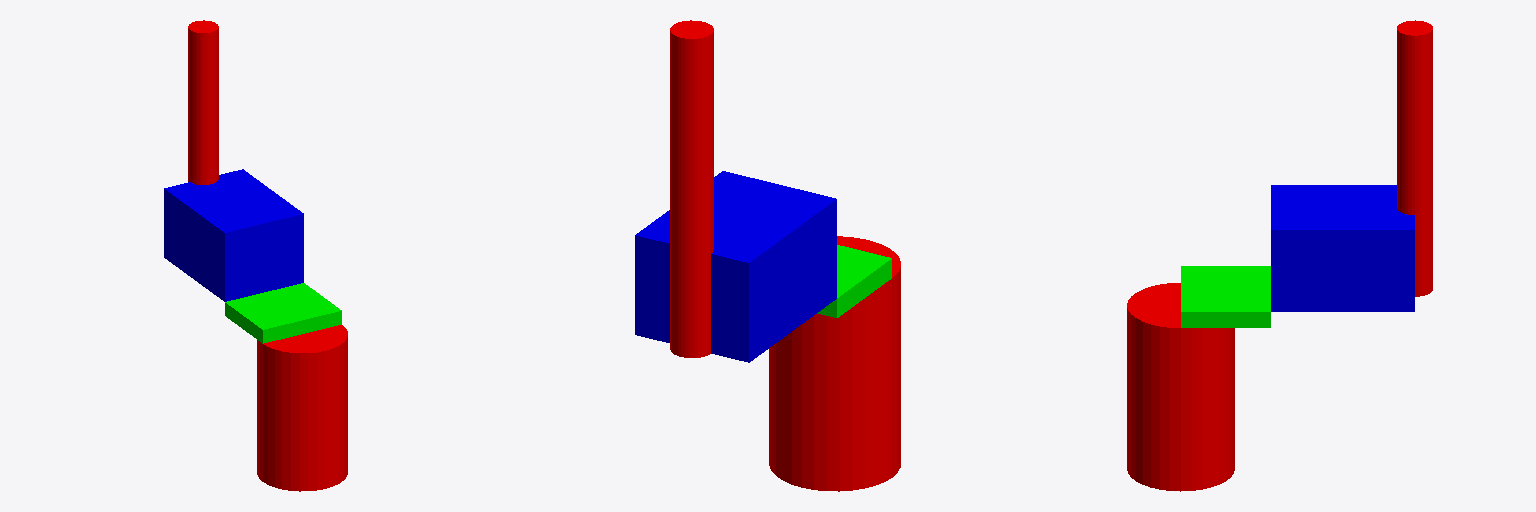
The robot description file, URDF, robot "box":
<?xml version="1.0" encoding="utf-8" ?>
<robot name="box">
    <material name="red">
        <color rgba="1 0 0 0.8"></color>
    </material>
    <material name="green">
        <color rgba="0 1 0 0.8"></color>
    </material>
    <material name="blue">
        <color rgba="0 0 1 0.8"></color>
    </material>

    <link name="base_link">
        <visual>
            <geometry>
                <cylinder length="1" radius="0.3"></cylinder>
            </geometry>
            <material name="red"></material>
            <origin xyz="0 0 0.5"></origin>
        </visual>
    </link>
    <link name="link1">
        <visual>
            <geometry>
                <box size="0.6 0.5 0.1"></box>
            </geometry>
            <material name="green"></material>
            <origin xyz="0 0.25 0.05"></origin>
        </visual>
    </link>
    <link name="link2">
        <visual>
            <geometry>
                <box size="0.6 0.8 0.5"></box>
            </geometry>
            <material name="blue"></material>
            <origin xyz="0 0.4 0.25"></origin>
        </visual>
    </link>
    <link name="link3">
        <visual>
            <geometry>
                <cylinder length="1.6" radius="0.1"></cylinder>
            </geometry>
            <material name="red"></material>
            <origin xyz="0 0 0.8"></origin>
        </visual>
    </link>

    <!-- joint -->
    <joint name="joint0" type="revolute">
        <origin xyz="0 0 1"></origin>
        <parent link="base_link"></parent>
        <child link="link1"></child>
        <axis xyz="0 0 1"></axis>
        <limit effort="30" velocity="1" lower="-1.57" upper="1.57"></limit>
    </joint>
    <joint name="joint1" type="revolute">
        <origin xyz="0 0.5 0.1"></origin>
        <parent link="link1"></parent>
        <child link="link2"></child>

        <axis xyz="0 0 1"></axis>
        <limit effort="30" velocity="1" lower="-1.57" upper="1.57"></limit>
    </joint>
    <joint name="joint2" type="prismatic">
        <origin xyz="0 0.8 0"></origin>
        <parent link="link2"></parent>
        <child link="link3"></child>
        <axis xyz="0 0 1"></axis>
        <limit effort="30" velocity="1" lower="-1.1" upper="0"></limit>
    </joint>

</robot>

--- What the picture shows (computed from the rendered views, not written in the file) ---
The picture shows the robot from 3 angles, left to right: view 1: azimuth 30°, elevation 25°; view 2: azimuth 150°, elevation 25°; view 3: azimuth 270°, elevation 25°; orthographic projection.
Robot: box — 4 links, 3 joints (2 revolute, 1 prismatic); root link base_link; default pose: all joints at 0.
Visible links, largest first — view 1: link2, base_link, link3, link1; view 2: base_link, link2, link3, link1; view 3: base_link, link2, link3, link1.
Boxes of the visible links, left/top/right/bottom form: link2: left=164, top=169, right=303, bottom=301; base_link: left=257, top=325, right=347, bottom=491; link3: left=188, top=20, right=218, bottom=184; link1: left=225, top=283, right=341, bottom=343; base_link: left=769, top=236, right=900, bottom=491; link2: left=635, top=171, right=836, bottom=362; link3: left=670, top=20, right=713, bottom=357; link1: left=817, top=245, right=891, bottom=317; base_link: left=1127, top=283, right=1234, bottom=491; link2: left=1271, top=185, right=1414, bottom=311; link3: left=1397, top=20, right=1432, bottom=296; link1: left=1181, top=266, right=1270, bottom=327.
Size in the robot's own frame: 0.6 by 1.7 by 2.7 metres.
Geometry: primitives only (box / cylinder / sphere), no mesh files.
